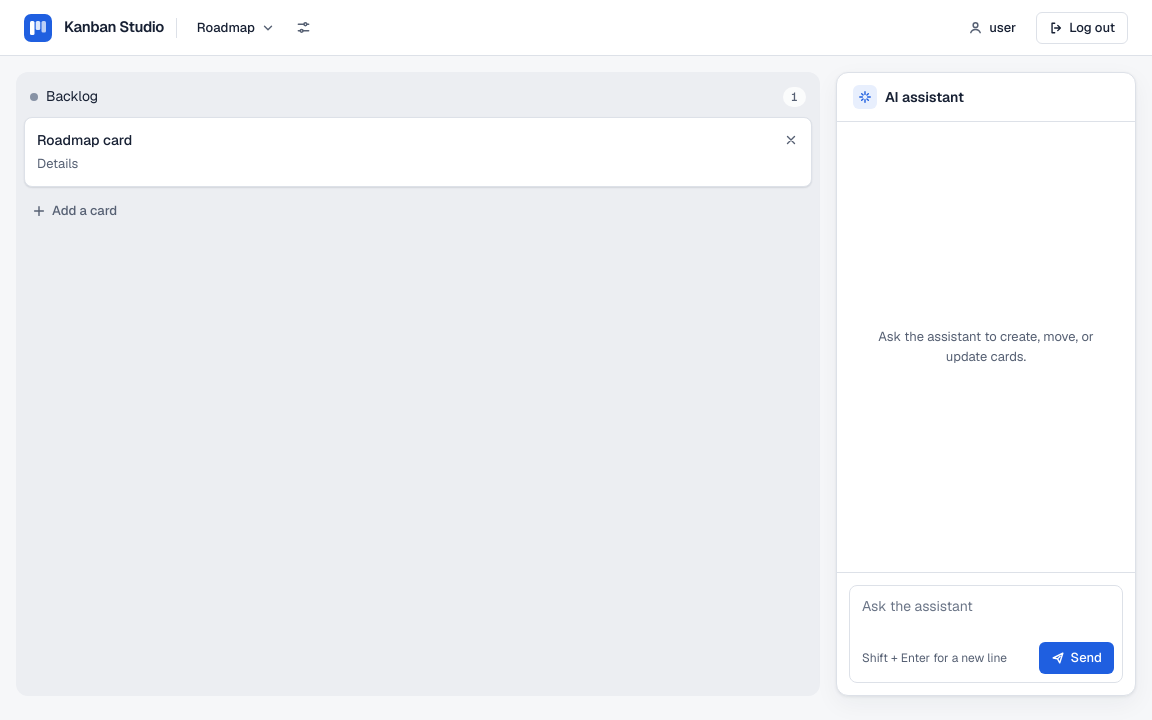
Test: Boards › switches boards from the header and remembers the choice
Expected: the heading "Roadmap card" is shown, [37, 130, 132, 150]
Click the button named "switch board". click: (236, 28)
box: [189, 12, 283, 44]
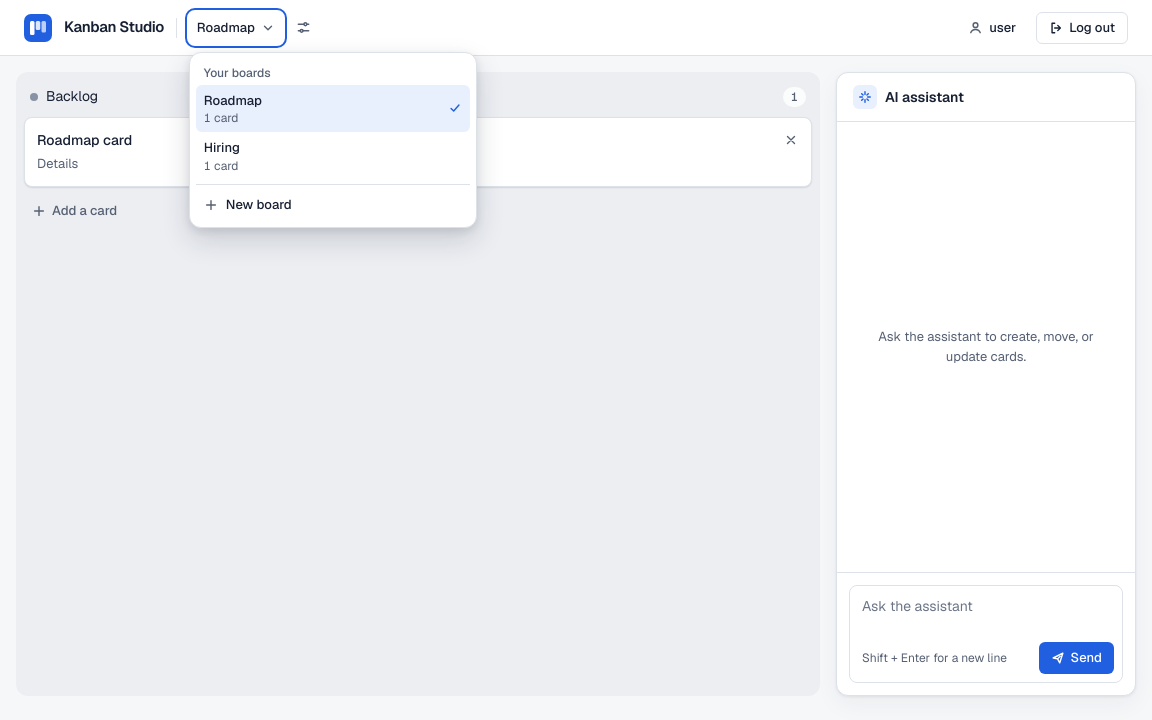
Click the menu item "Hiring 1 card". click: (222, 148)
box: [196, 132, 470, 180]
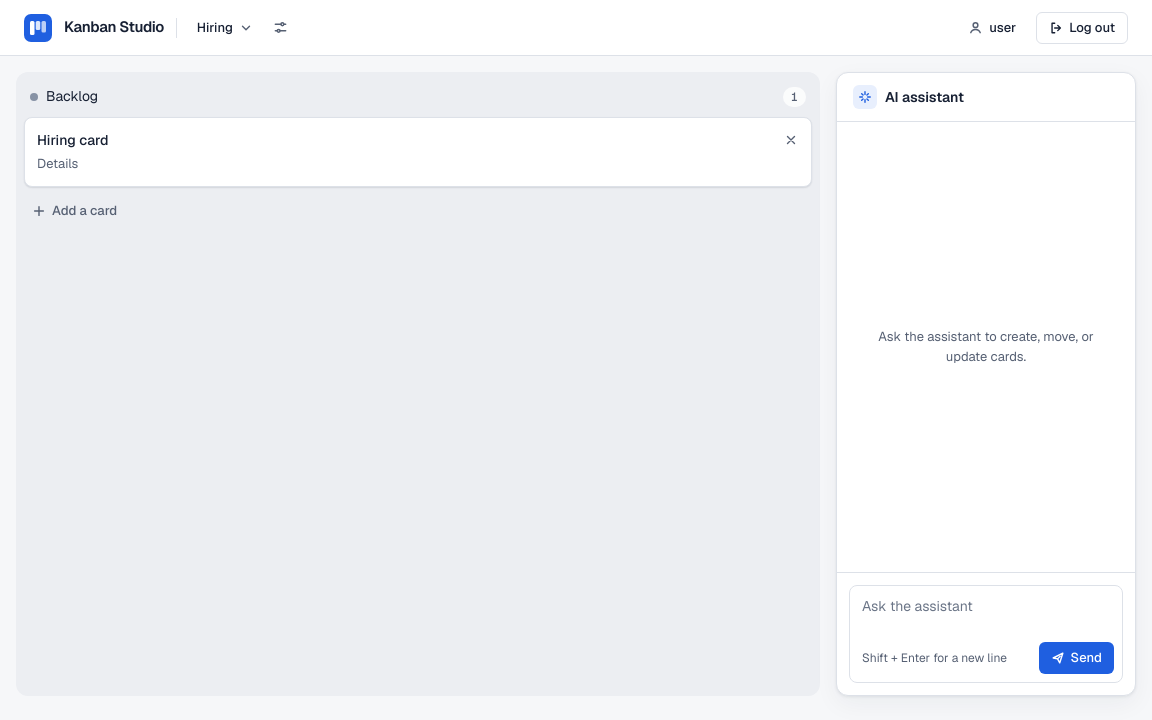
Expected: the heading "Hiring card" is shown, [37, 130, 108, 150]
Expected: the button "Roadmap card" is gone
